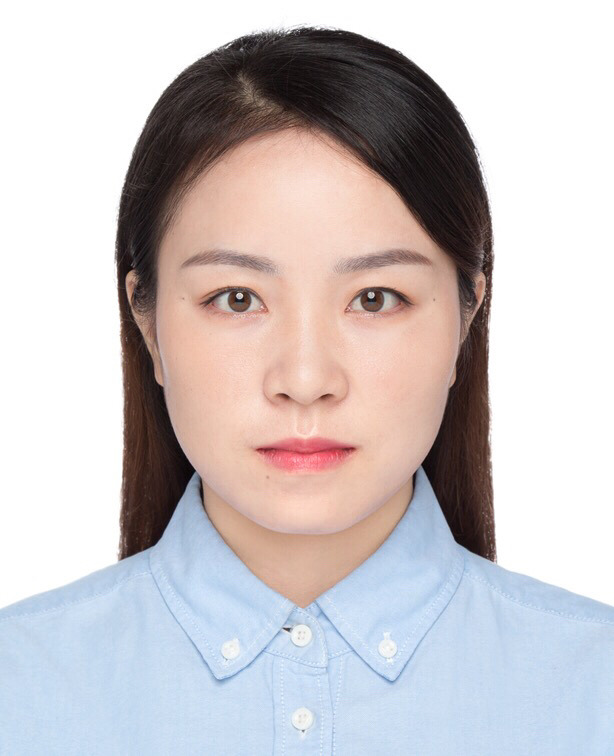unmask: (150, 168, 453, 504)
